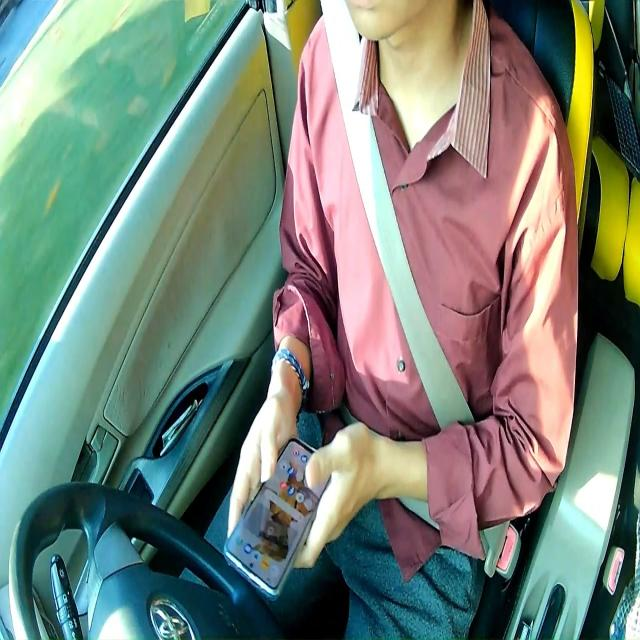phone: (224, 435, 332, 599)
